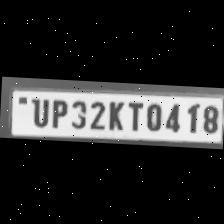0: (141, 100, 163, 132)
1: (180, 100, 200, 134)
2: (86, 96, 106, 130)
3: (67, 96, 87, 128)
4: (161, 100, 183, 132)
8: (196, 101, 220, 133)
K: (102, 97, 125, 130)
P: (48, 95, 68, 127)
T: (124, 98, 144, 132)
U: (27, 94, 50, 126)
